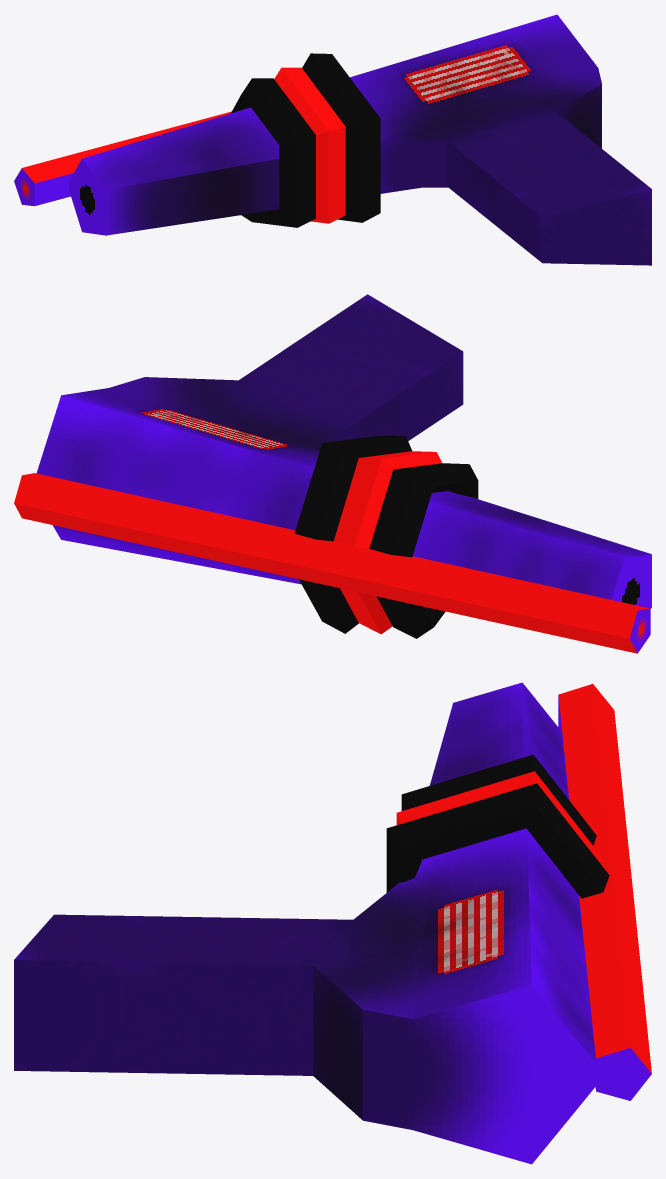
File: purple_gun_blaster.glb
3 renders of one model, top to bottom at view 1: azimuth 30°, elevation 25°; view 2: azimuth 150°, elevation 25°; view 3: azimuth 270°, elevation 25°, orthographic. The views are drawn at different scales.
Parts seen in each view (by area): view 1: cylinder_0, torus_3, torus_1, torus_2, cylinder_4; view 2: cylinder_0, cylinder_4, torus_3, torus_1, torus_2; view 3: cylinder_0, cylinder_4, torus_1, torus_3, torus_2.
Boxes of the visible parts, <box> form: cylinder_0: <box>69,14,651,265</box>; torus_3: <box>231,78,315,227</box>; torus_1: <box>302,53,380,222</box>; torus_2: <box>274,67,345,223</box>; cylinder_4: <box>14,111,231,206</box>; cylinder_0: <box>36,294,651,608</box>; cylinder_4: <box>14,473,650,653</box>; torus_3: <box>369,463,478,638</box>; torus_1: <box>294,435,412,633</box>; torus_2: <box>333,451,441,634</box>; cylinder_0: <box>14,682,595,1164</box>; cylinder_4: <box>558,684,651,1100</box>; torus_1: <box>386,783,609,898</box>; torus_3: <box>401,754,596,845</box>; torus_2: <box>396,771,600,861</box>.
Size of the model in its own units: 1.08 by 0.3247 by 0.7956.
Materials: 1 (1 with a texture image).
